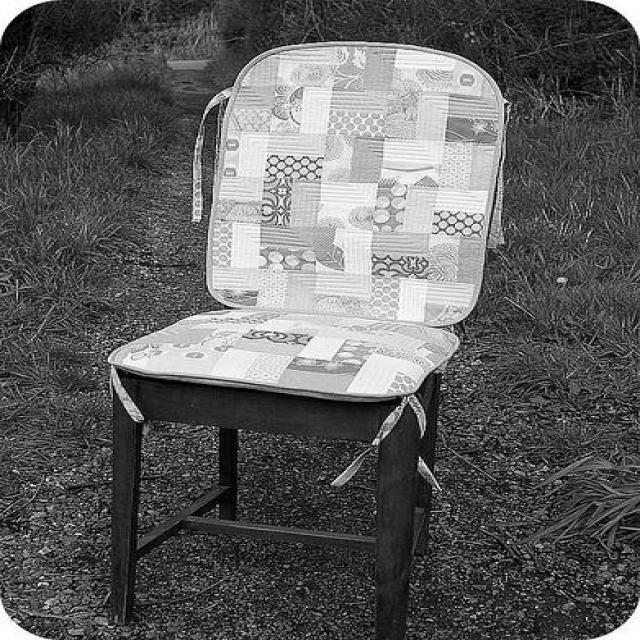chair: (109, 41, 511, 631)
